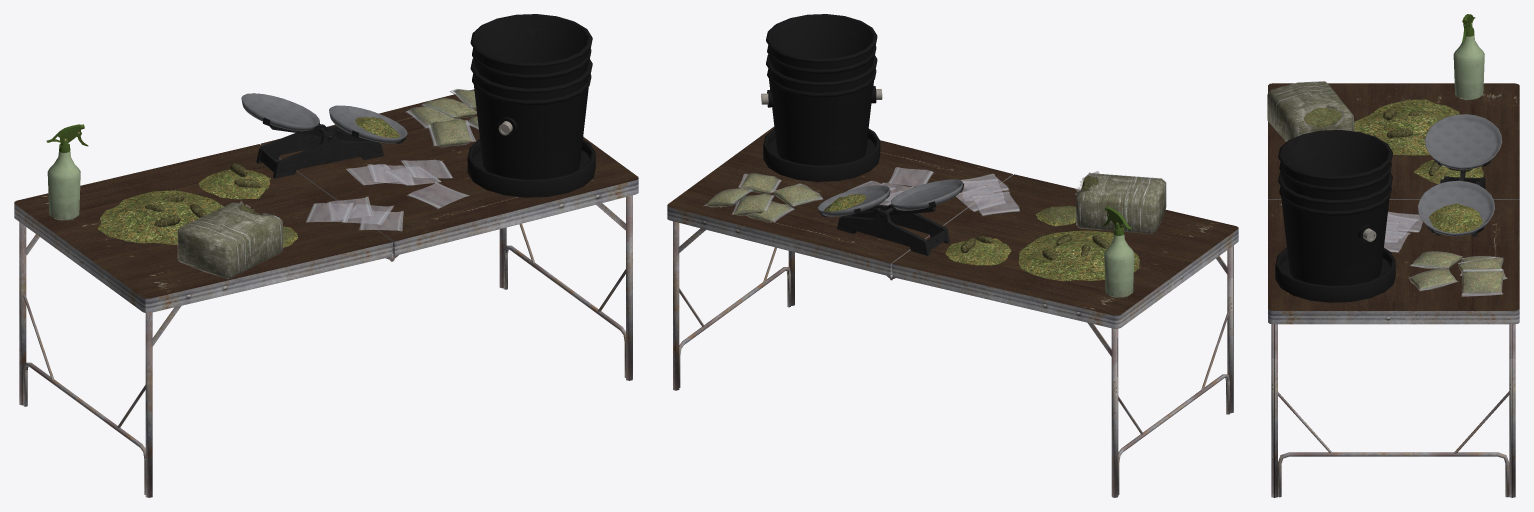
The model's file is weed-table.glb.
The picture shows the model from 3 angles, left to right: view 1: azimuth 30°, elevation 25°; view 2: azimuth 150°, elevation 25°; view 3: azimuth 270°, elevation 25°; orthographic projection. The views are drawn at different scales.
Parts seen in each view (by area): view 1: Weed_Table_01a; view 2: Weed_Table_01a; view 3: Weed_Table_01a.
Boxes of the visible parts, x1,y1,x2,y2 form: Weed_Table_01a: (14, 14, 638, 497); Weed_Table_01a: (667, 14, 1238, 497); Weed_Table_01a: (1267, 14, 1519, 497).
Bounding box in the file's own units: 2.17 × 1.39 × 1.02.
Materials: 16 (16 with a texture image).
